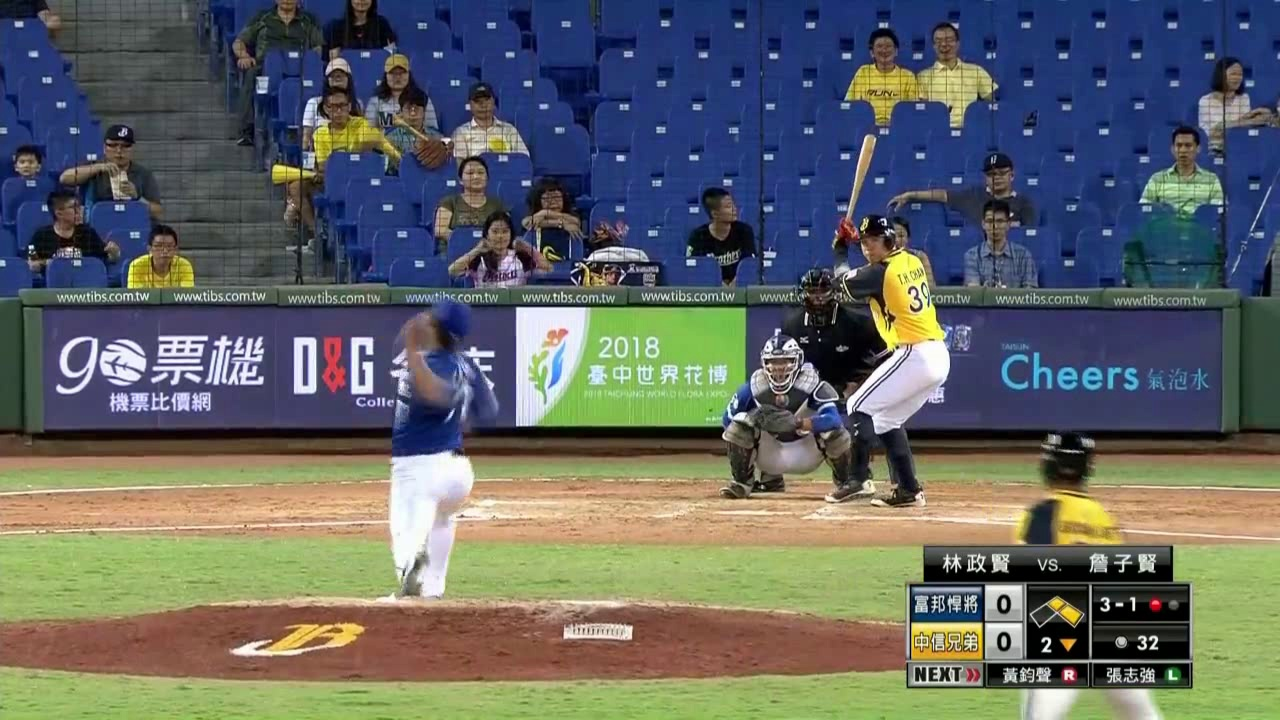base: (1030, 591, 1085, 628)
bat: (843, 130, 878, 221)
out: (1142, 588, 1182, 619)
score1: (986, 588, 1021, 618)
score2: (987, 628, 1022, 656)
session: (1028, 628, 1086, 658)
strikeball: (1095, 588, 1142, 623)
total: (1094, 628, 1189, 656)
